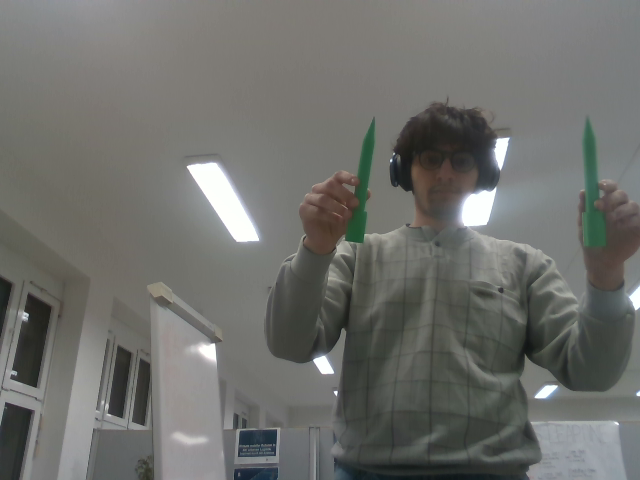Probe: (342, 114, 379, 246), (578, 112, 608, 250)
